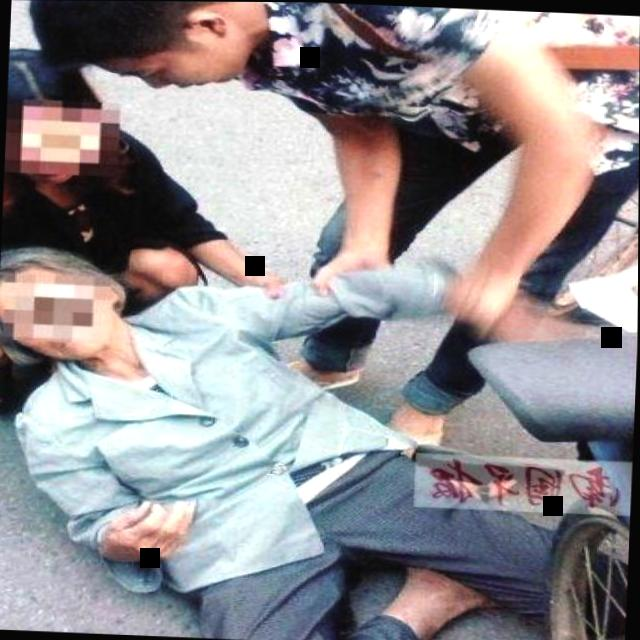Fall-Detected: (0, 209, 609, 640)
